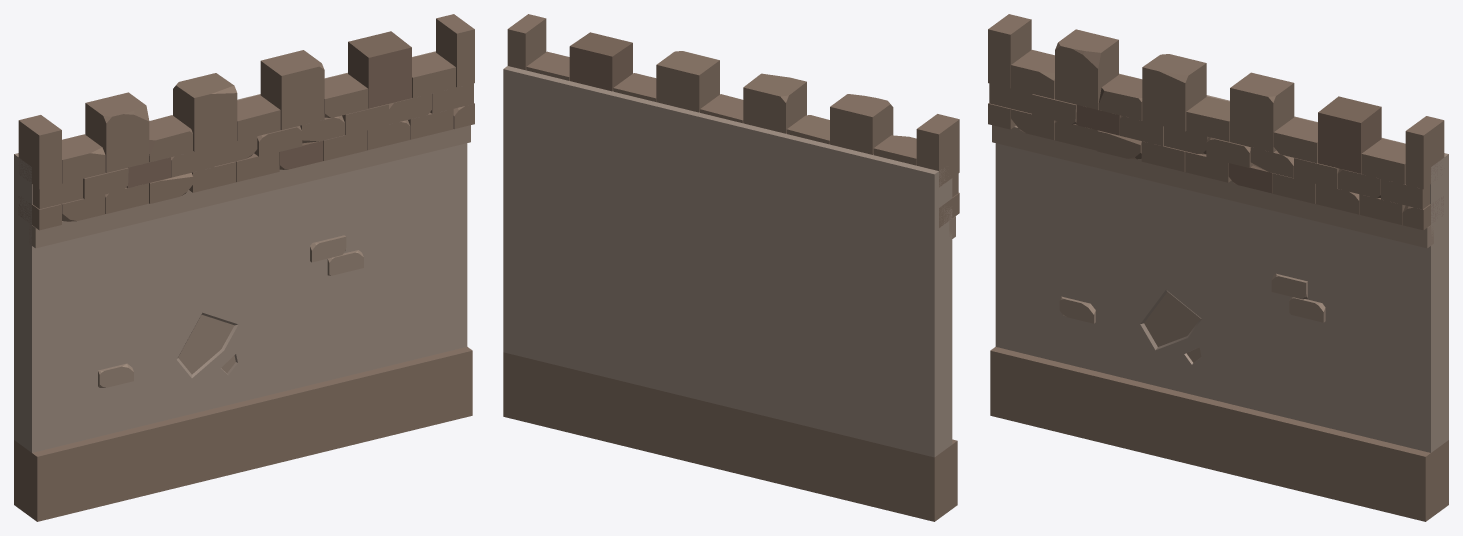
File: Wall_02.fbx
The picture shows the model from 3 angles, left to right: view 1: azimuth 30°, elevation 25°; view 2: azimuth 150°, elevation 25°; view 3: azimuth 330°, elevation 25°; orthographic projection.
Parts seen in each view (by area): view 1: Wall_02; view 2: Wall_02; view 3: Wall_02.
Boxes of the visible parts, left/top/right/bottom form: Wall_02: left=14, top=14, right=474, bottom=521; Wall_02: left=503, top=14, right=959, bottom=521; Wall_02: left=988, top=14, right=1448, bottom=521.
Size of the model in its own units: 700 by 598 by 72.44.
